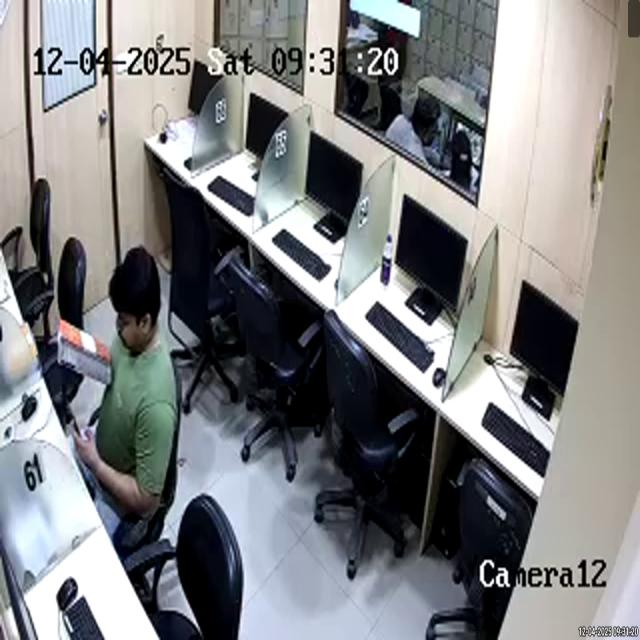phone: (66, 406, 88, 444)
